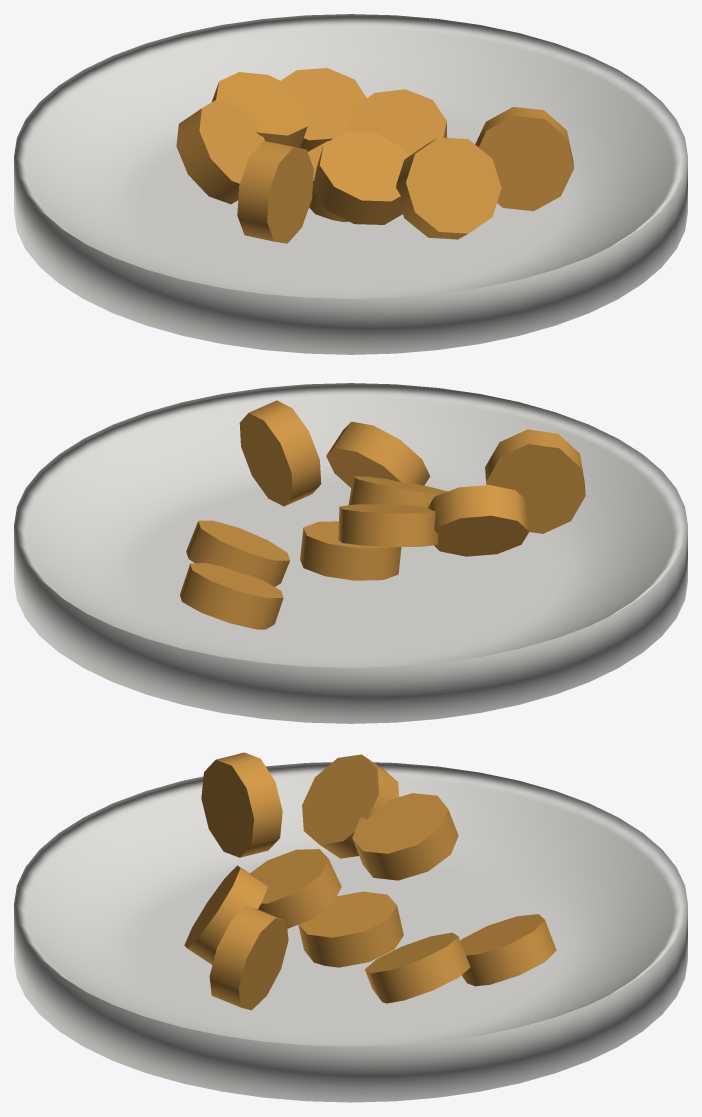
File: empanados-3-card.glb
The picture shows the model from 3 angles, top to bottom: view 1: azimuth 30°, elevation 25°; view 2: azimuth 150°, elevation 25°; view 3: azimuth 270°, elevation 25°; orthographic projection.
Bounding box in the file's own units: 0.24 × 0.0547 × 0.24.
